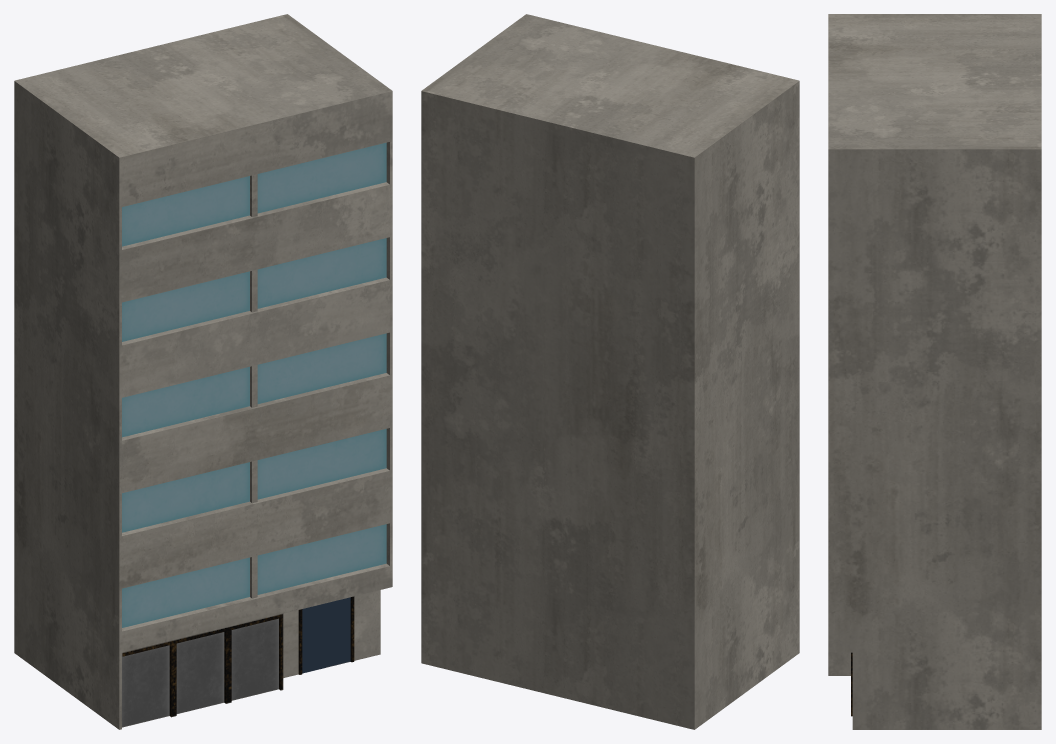
The model's file is Building_04_Texture.fbx.
The picture shows the model from 3 angles, left to right: view 1: azimuth 30°, elevation 25°; view 2: azimuth 150°, elevation 25°; view 3: azimuth 270°, elevation 25°; orthographic projection.
Parts seen in each view (by area): view 1: Buil_04; view 2: Buil_04; view 3: Buil_04.
Part boxes in pixels (x1,y1,x2,y2): Buil_04: (14, 14, 392, 729); Buil_04: (421, 14, 799, 729); Buil_04: (828, 14, 1041, 729).
Bounding box in the file's own units: 1620 × 3240 × 1080.
